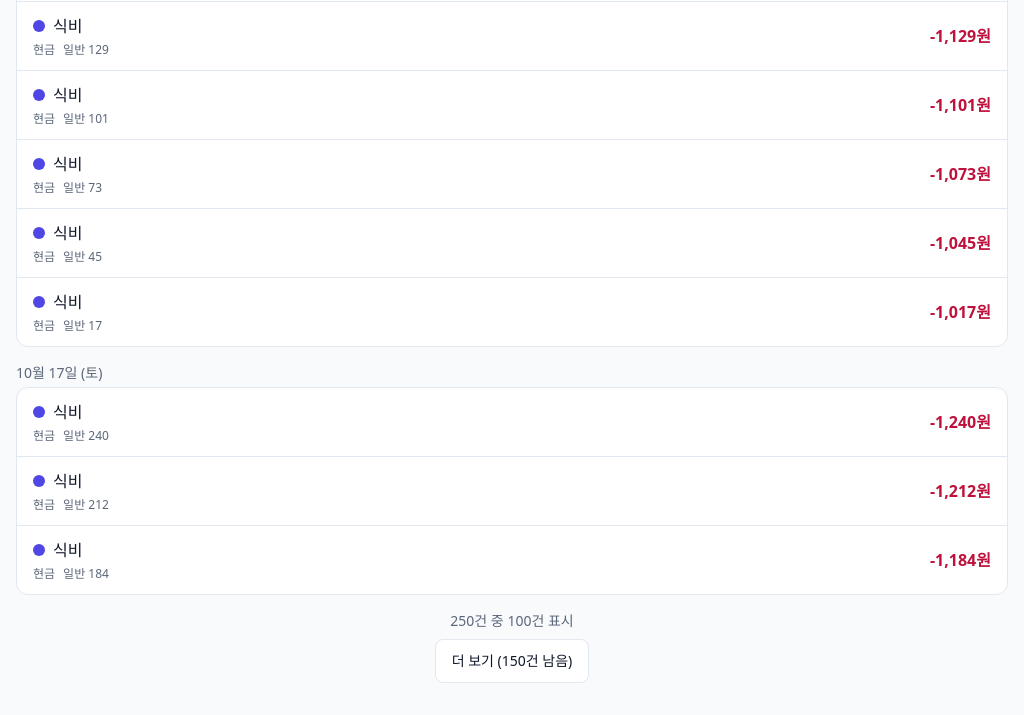
긴 목록 점진 렌더링 › 월을 이동했다 돌아와도 처음 100건부터 다시 보여 준다
(page scrolled)
What coordinates should you click on to do the following:
click the button "더 보기 (150건 남음)"
I would click on:
 (512, 661)
Its box is [435,639,589,683].
(page scrolled)
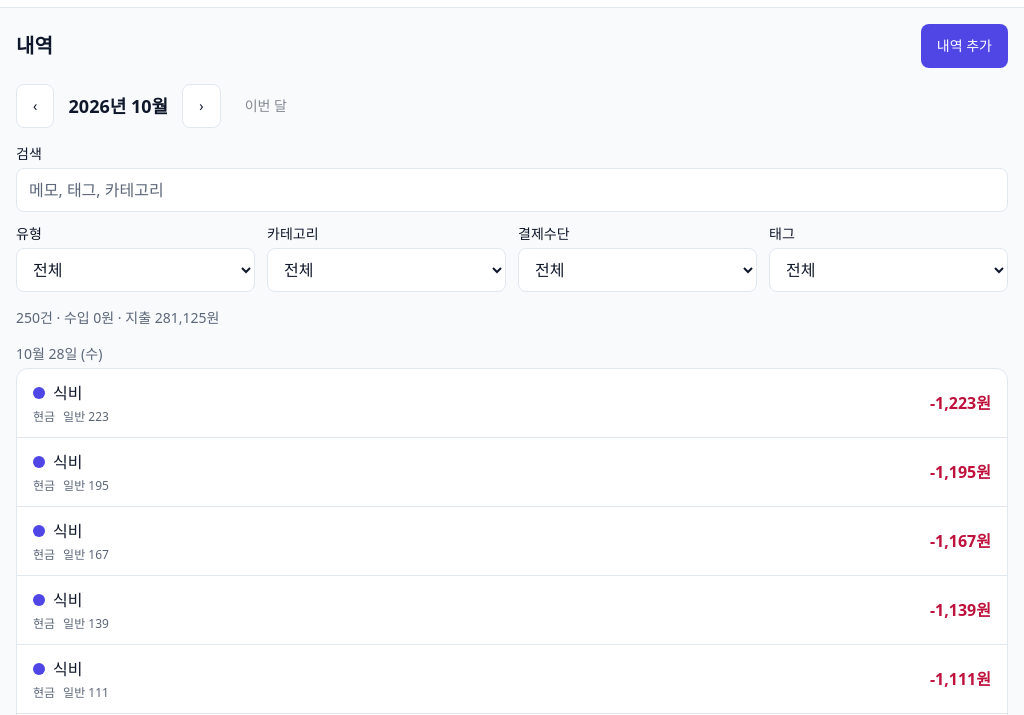
What coordinates should you click on to do the following:
click the button named "이전 달"
I would click on:
 (35, 106)
Its box is [16,84,54,128].
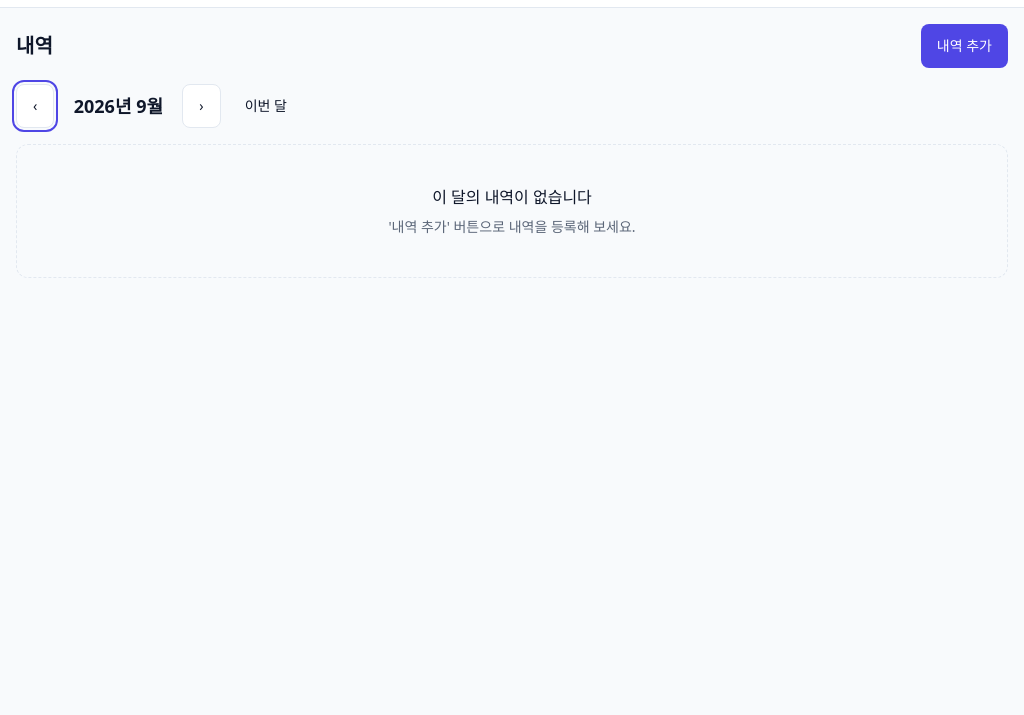
Check: the text "이 달의 내역이 없습니다" is shown, box [432,185,592,209]
What coordinates should you click on to do the following:
click the button "이번 달"
I would click on:
 (266, 106)
Its box is [229,84,303,128].
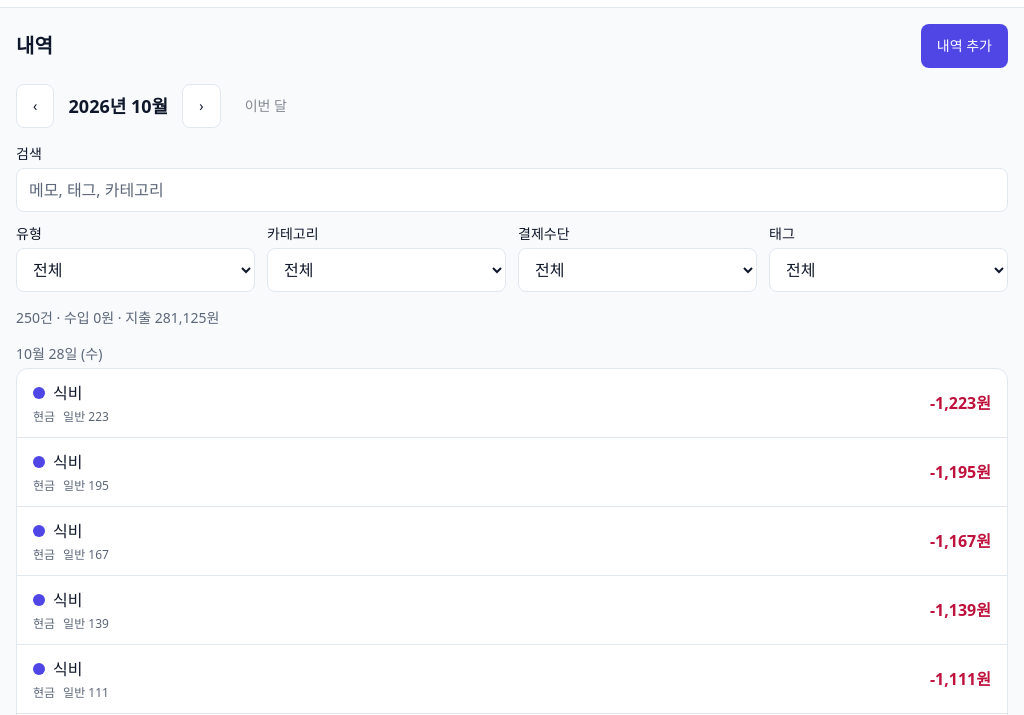
Check: the number of list items is 100
